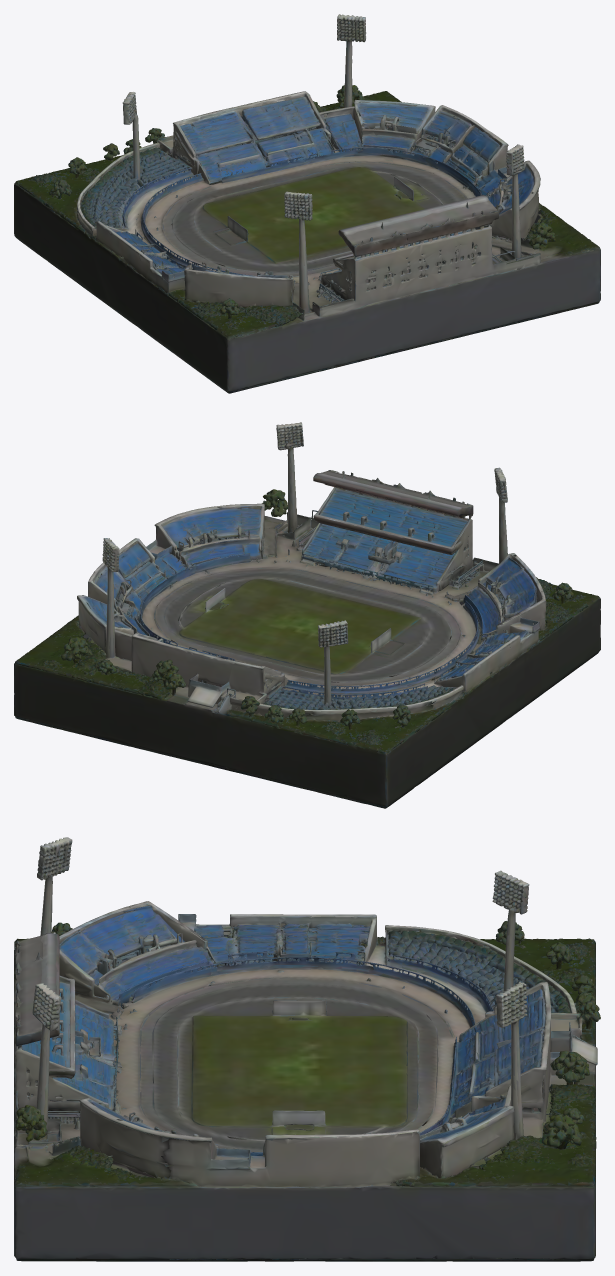
Rendered from suez-stadium-2.glb.
The picture shows the model from 3 angles, top to bottom: view 1: azimuth 30°, elevation 25°; view 2: azimuth 150°, elevation 25°; view 3: azimuth 270°, elevation 25°; orthographic projection. The views are drawn at different scales.
Bounding box in the file's own units: 0.9994 × 0.4382 × 1.
1 material, 1 textured.
